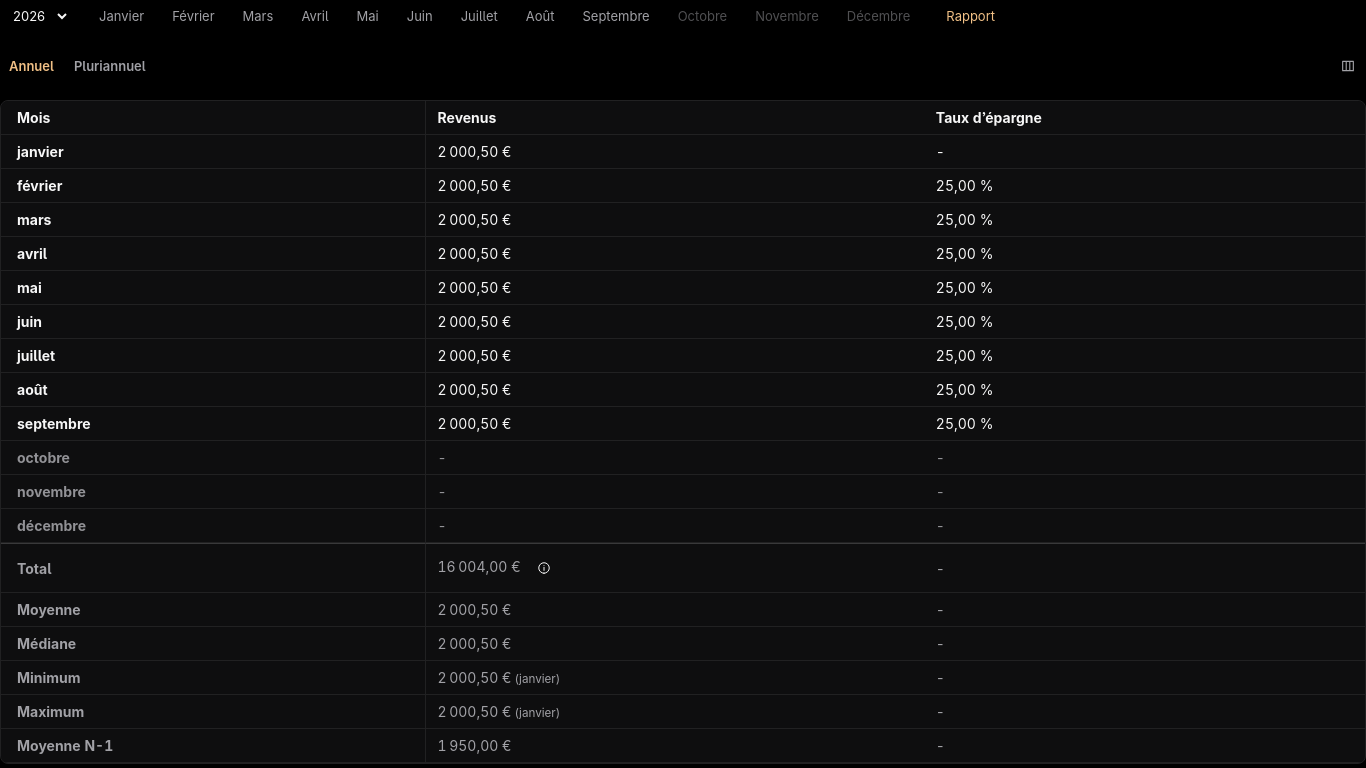
Scenario: AnnualReportPage › opens the aggregate explanation from a summary cell
Click the button named "Expliquer les agrégats : Revenus": [544, 568] box [528, 552, 560, 584]
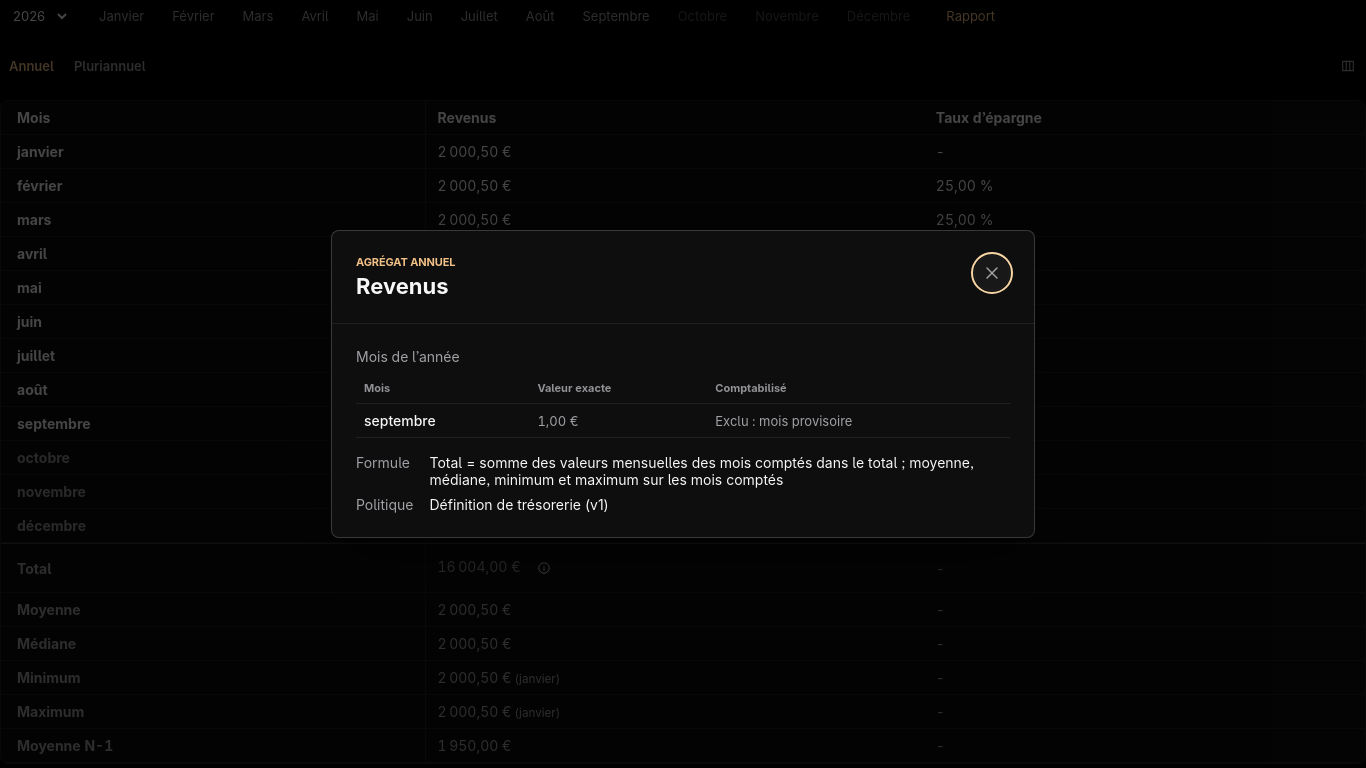
Expected: the text "Total = somme des valeurs mensuelles" is shown, [430, 454, 974, 488]
